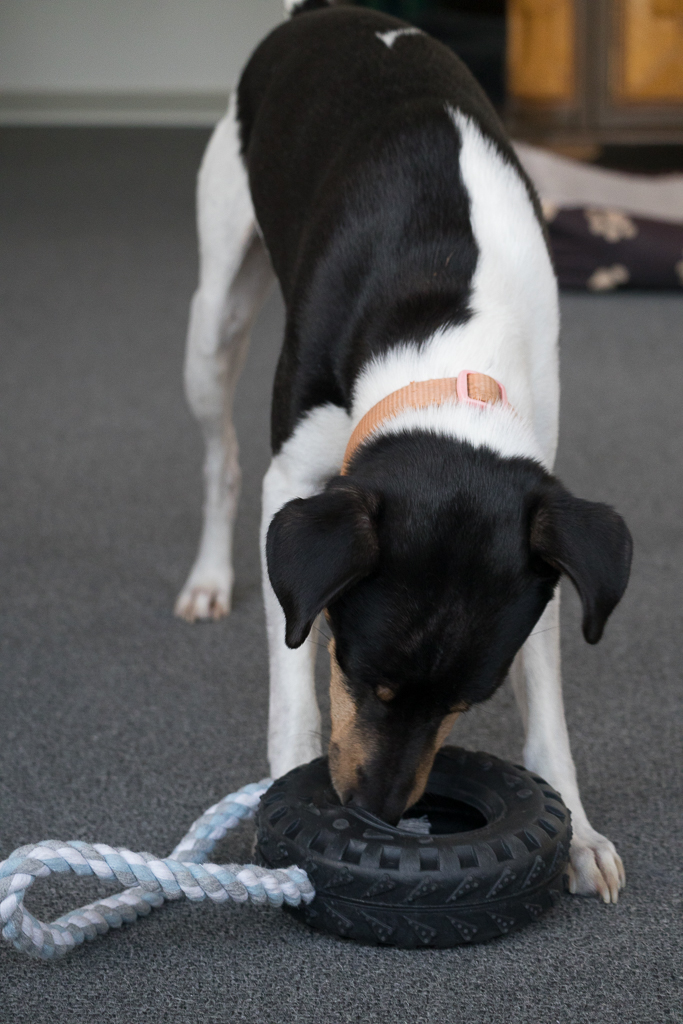Dog: (149, 0, 651, 921)
